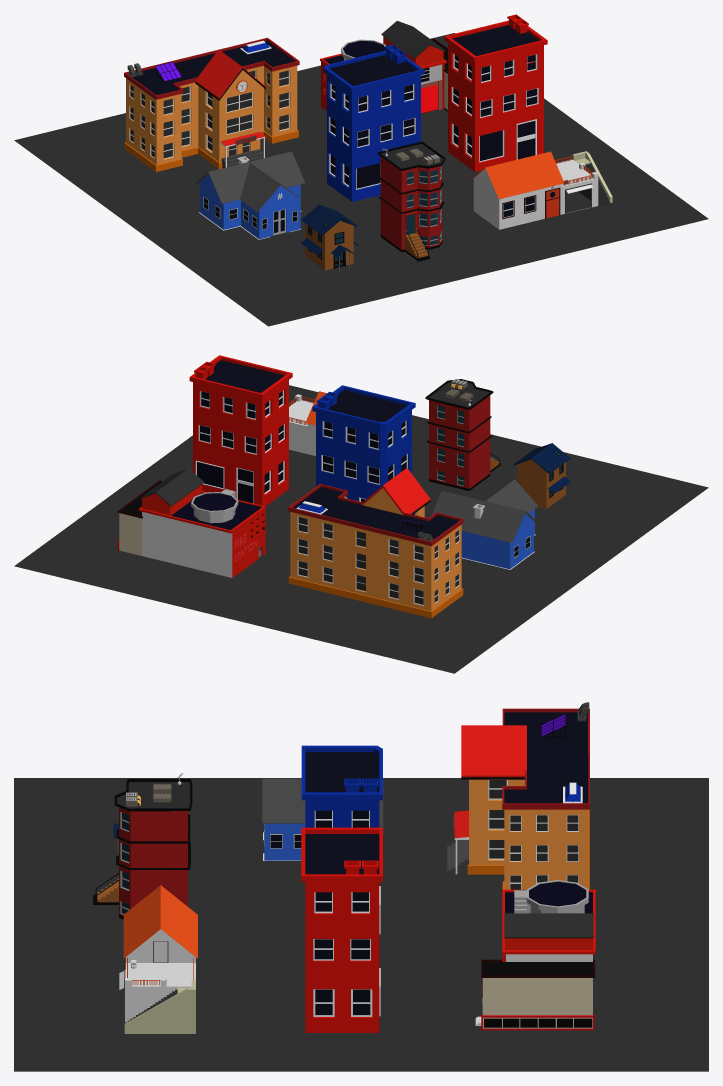
File: All.fbx
The picture shows the model from 3 angles, top to bottom: view 1: azimuth 30°, elevation 25°; view 2: azimuth 150°, elevation 25°; view 3: azimuth 270°, elevation 25°; orthographic projection. The views are drawn at different scales.
Visible parts, largest first — view 1: Plane, School, Red Building, Blue_Building, House_2, Plane.010, Corner_Building, Fire_station, House_4; view 2: Plane, School, Red Building, Fire_station, Blue_Building, Corner_Building, Plane.010, House_4, House_2; view 3: Plane, School, Red Building, Fire_station, House_2, Corner_Building, Blue_Building, Plane.010.
Part boxes in pixels (x1,y1,x2,y2): Plane: (14, 33, 708, 326); School: (124, 37, 299, 171); Red Building: (444, 14, 547, 171); Blue_Building: (323, 44, 424, 201); House_2: (472, 151, 612, 229); Plane.010: (195, 151, 305, 239); Corner_Building: (377, 141, 445, 261); Fire_station: (320, 21, 447, 113); House_4: (301, 204, 358, 272); Plane: (14, 385, 708, 673); School: (288, 468, 463, 618); Red Building: (189, 355, 292, 506); Fire_station: (117, 468, 265, 577); Blue_Building: (312, 385, 415, 502); Corner_Building: (425, 379, 500, 490); Plane.010: (431, 479, 538, 569); House_4: (513, 443, 570, 508); House_2: (289, 391, 326, 455); Plane: (14, 778, 708, 1071); School: (447, 702, 589, 889); Red Building: (301, 827, 382, 1032); Fire_station: (475, 880, 595, 1030); House_2: (119, 885, 197, 1033); Corner_Building: (93, 773, 192, 919); Blue_Building: (301, 745, 382, 934); Plane.010: (262, 778, 383, 860).
Size of the model in its own units: 4528 by 1200 by 4528.
